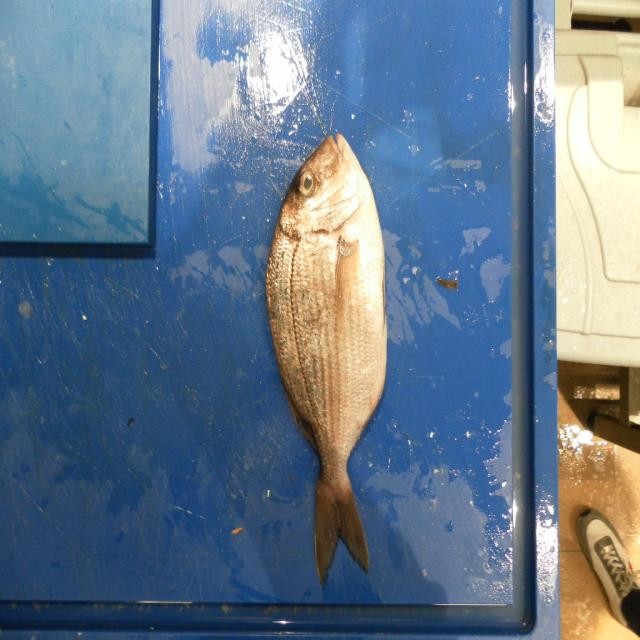Red-Sea-Bream-mercan-: (264, 135, 390, 586)
